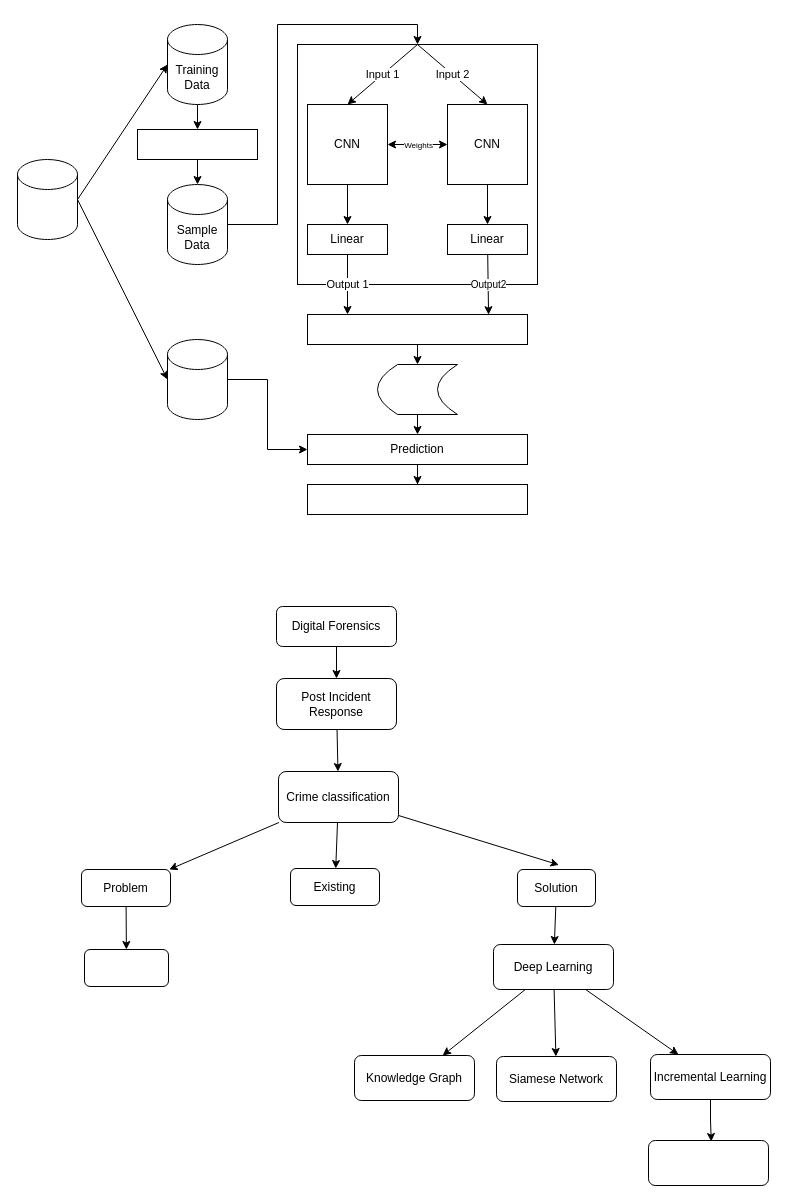
The diagram is 788 pixels wide and 1203 high, and some of its shapes have lost their labels. Each missing label, with the centre of its shape:
Binary Cross Entrophy(BCE) Loss: (417,329)
Evaluation: (417,499)
Graph Embedings: (47,199)
Human in the loop: (708,1163)
Manual: (126,967)
Model: (417,389)
Similarity Sampler: (197,144)
Test Data: (197,379)
